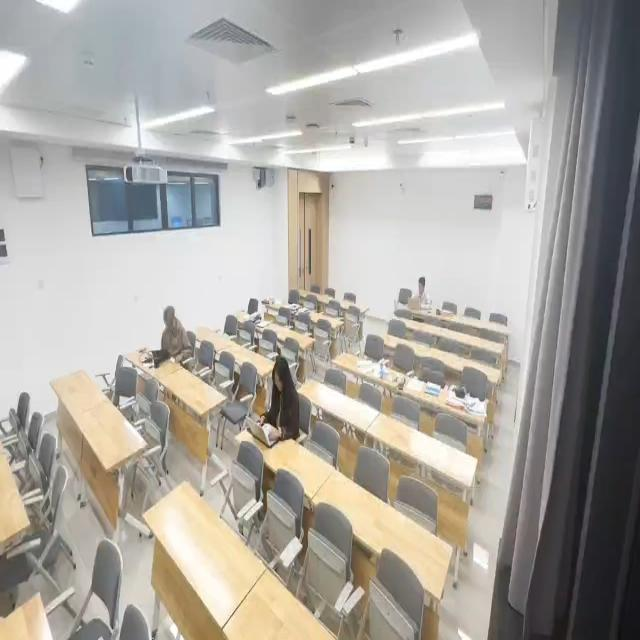Non-empty: (235, 416, 335, 498), (394, 375, 488, 424), (331, 353, 408, 392), (127, 343, 182, 378), (395, 298, 458, 324), (234, 310, 286, 339), (263, 294, 312, 317)
empty: (144, 478, 267, 627), (313, 468, 452, 596), (365, 407, 479, 484), (225, 569, 338, 640), (74, 402, 146, 470), (298, 377, 379, 430), (160, 364, 225, 416), (47, 370, 111, 418), (417, 346, 501, 381), (0, 589, 54, 639), (0, 454, 30, 539), (215, 341, 277, 378), (373, 331, 428, 358), (191, 324, 232, 352), (454, 315, 510, 335), (279, 326, 317, 349)
